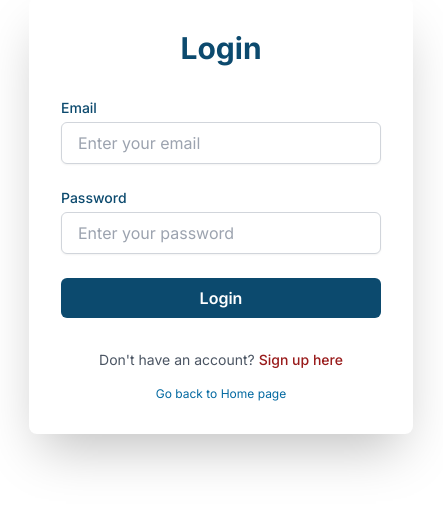
Login › displays an error message when login fails
Type "test@example.com" into the field labelled "Email". click: (221, 143)
box: 61,122 -> 381,164
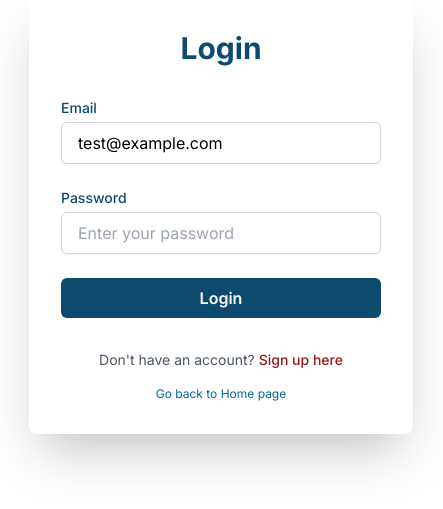
Type "password123" into the password field labelled "Password". click: (221, 233)
box: 61,212 -> 381,254
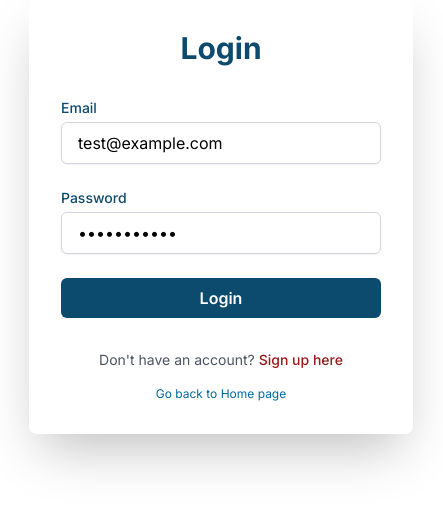
Click the button "Login". click: (221, 298)
box: 61,278 -> 381,318
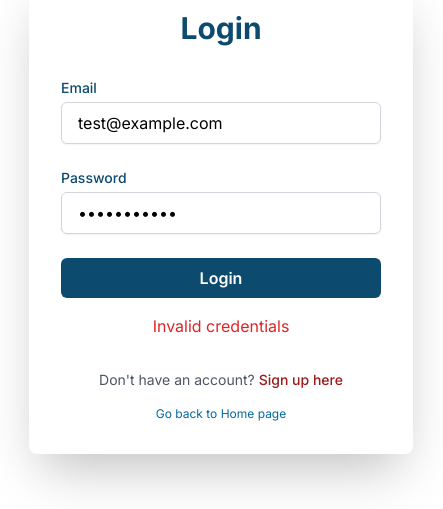
Result: the text "Invalid credentials" is shown at 153,316 -> 289,336
